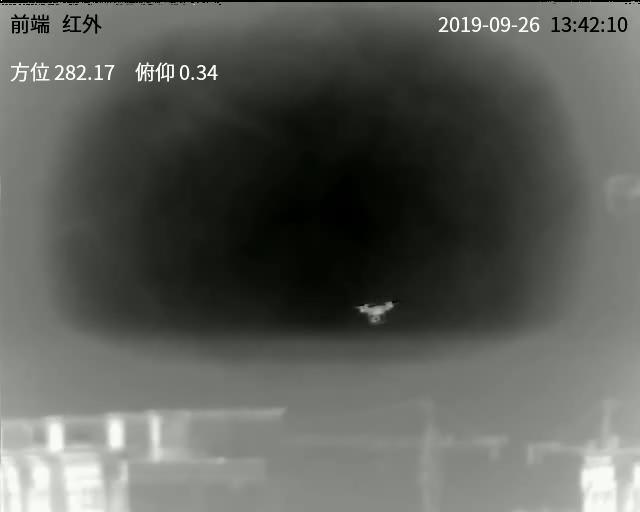uav: (355, 296, 399, 327)
